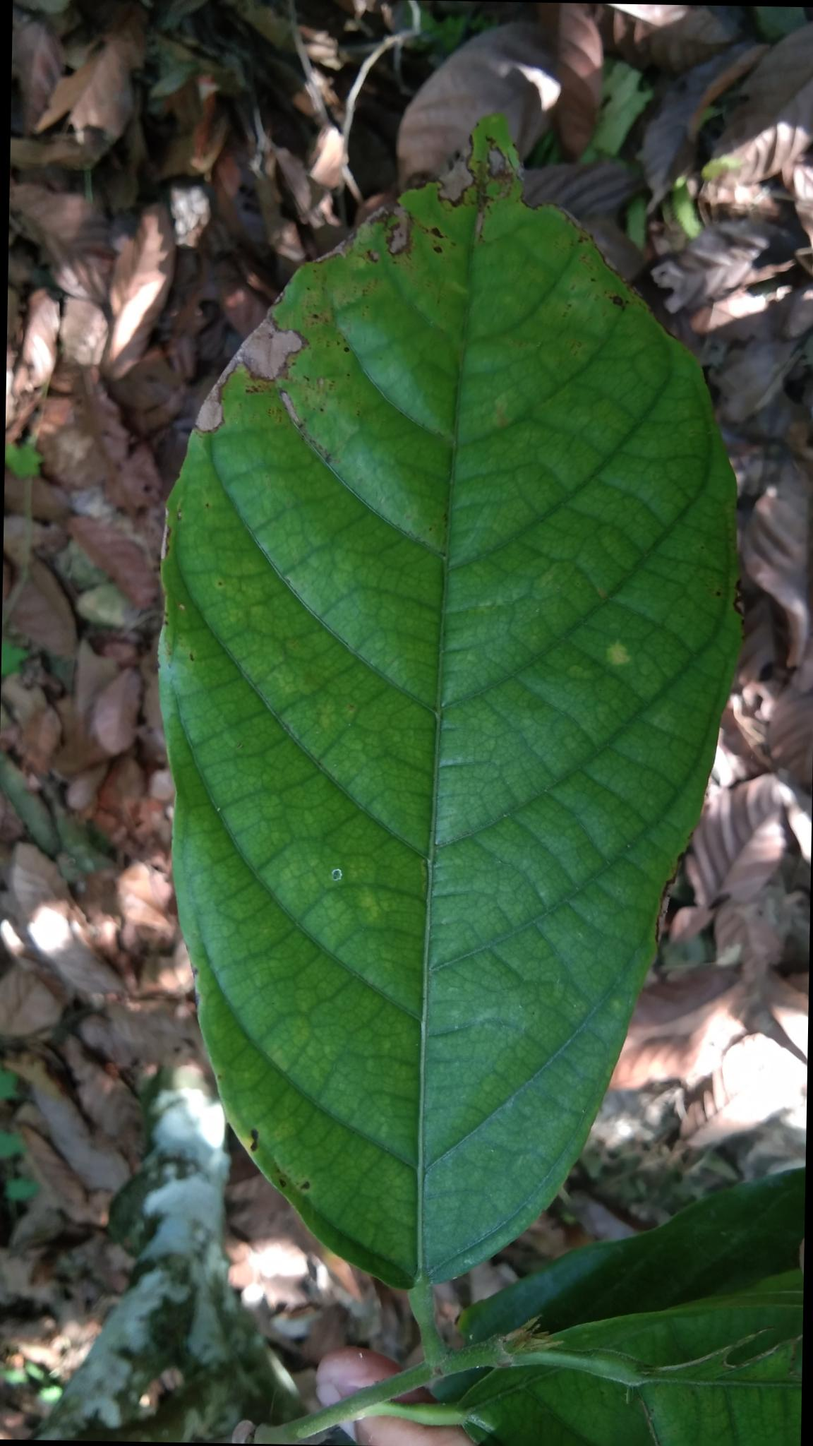Fosforo: (161, 119, 732, 1292)
